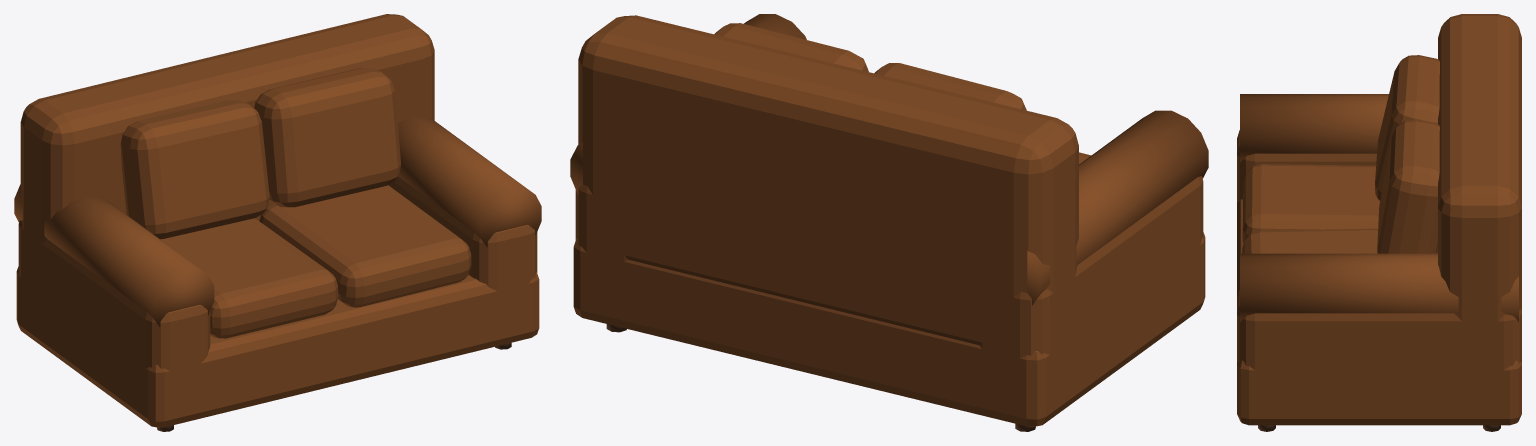
Rendered from NamoradeiraMarromListrada.fbx.
The picture shows the model from 3 angles, left to right: view 1: azimuth 30°, elevation 25°; view 2: azimuth 150°, elevation 25°; view 3: azimuth 270°, elevation 25°; orthographic projection. The views are drawn at different scales.
Visible parts, largest first — view 1: NamoradeiraMarromListrada; view 2: NamoradeiraMarromListrada; view 3: NamoradeiraMarromListrada.
Part boxes in pixels (<box>): NamoradeiraMarromListrada: <box>14,14,541,431</box>; NamoradeiraMarromListrada: <box>570,14,1208,431</box>; NamoradeiraMarromListrada: <box>1237,14,1521,431</box>.
Bounding box in the file's own units: 1.5 × 0.9 × 0.95.
